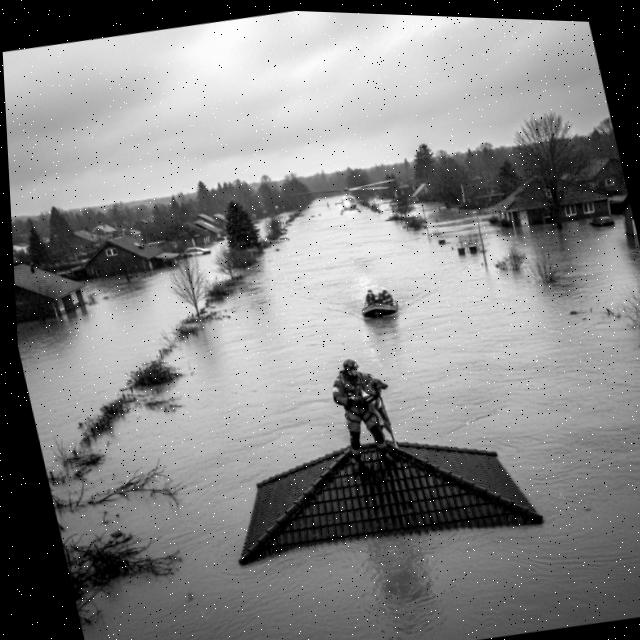dog: (357, 367, 404, 456)
rescuer: (318, 350, 412, 487), (359, 283, 379, 309), (376, 285, 395, 310)
